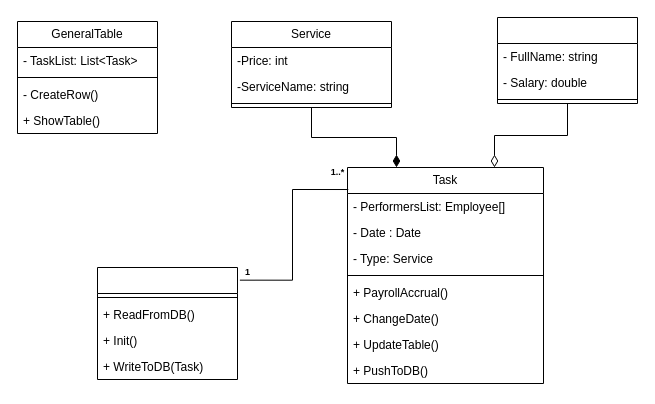
The diagram is 655 pixels wide and 404 high, and some of its shapes have lost their labels. Here are the shapes that lost their labels. From the top down, the box of each, then its label:
(496, 16, 638, 104): Employee
(96, 266, 238, 380): DataBase
